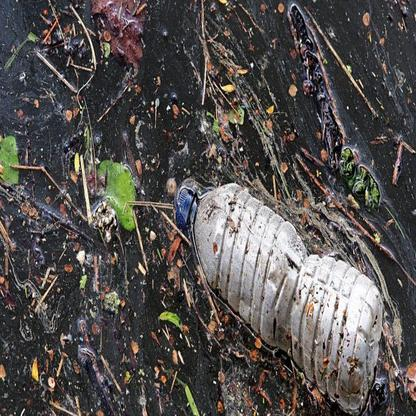plastic bottle: (175, 184, 383, 410)
